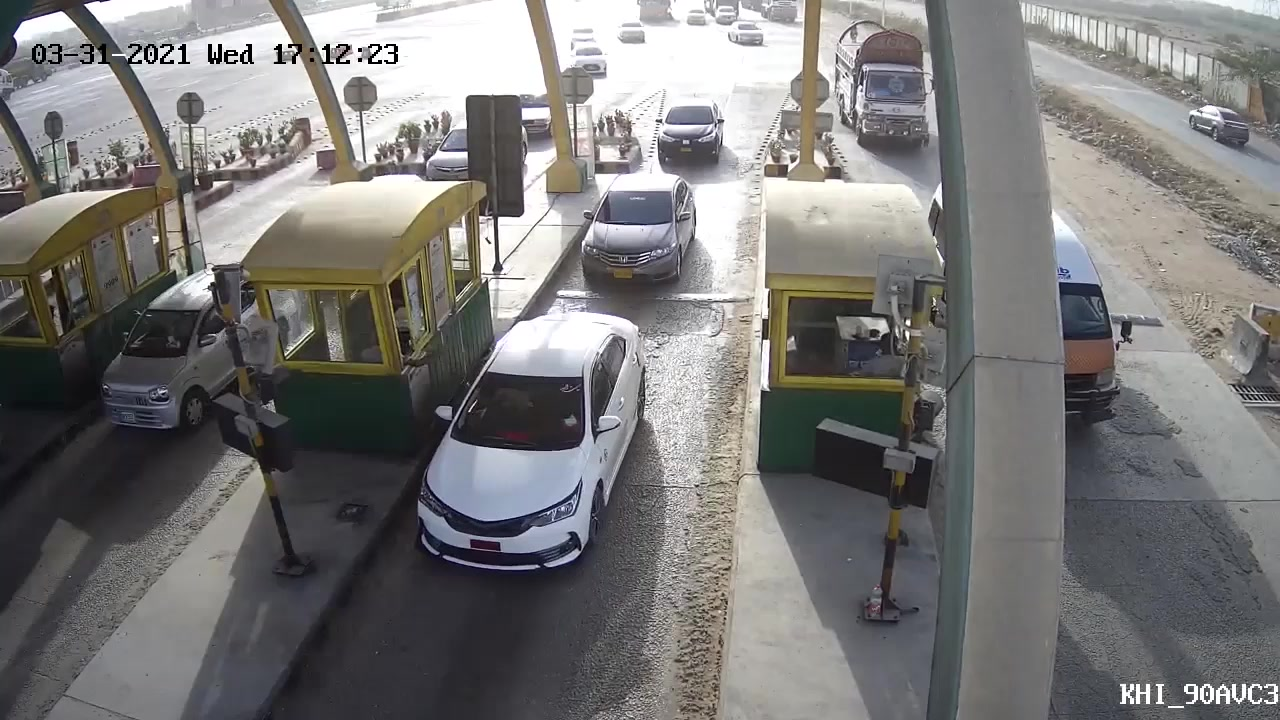F1: (392, 304, 659, 581), (577, 166, 698, 286), (642, 101, 728, 171)
